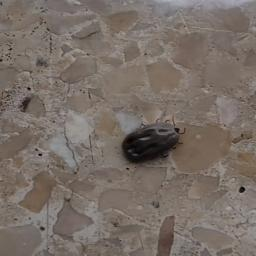Rhipicephalus sanguineus: (121, 115, 186, 162)
